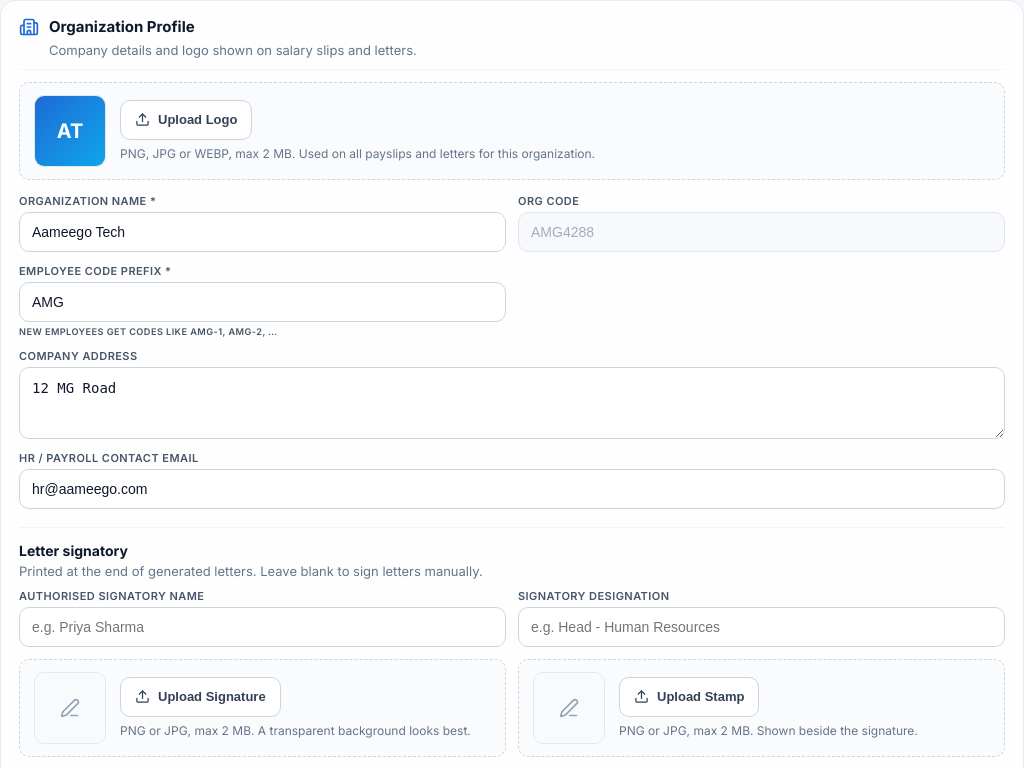
Test: fields are editable and save sends the edited signatory details
Replace the text in the field labelled "Organization Name *" with "Aameego Labs": (262, 232) [19,212,506,252]
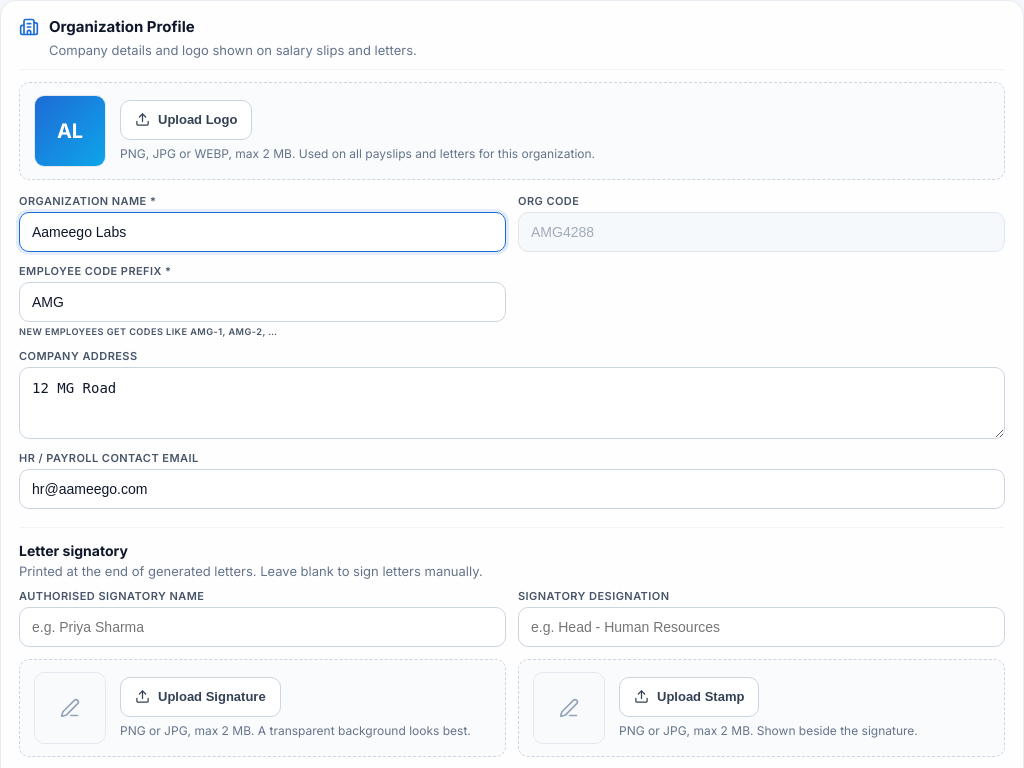
In the field labelled "Authorised Signatory Name": (262, 627) [19,607,506,647], type "Priya Sharma"
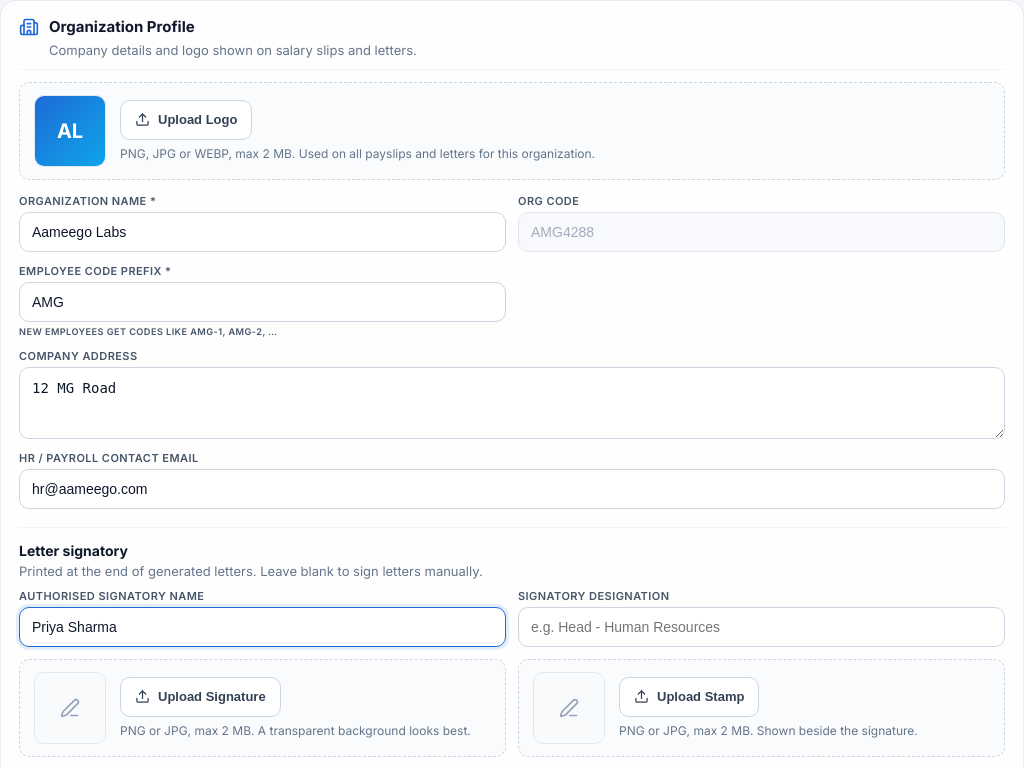
In the field labelled "Signatory Designation": (762, 627) [518,607,1005,647], type "Head HR"
(page scrolled)
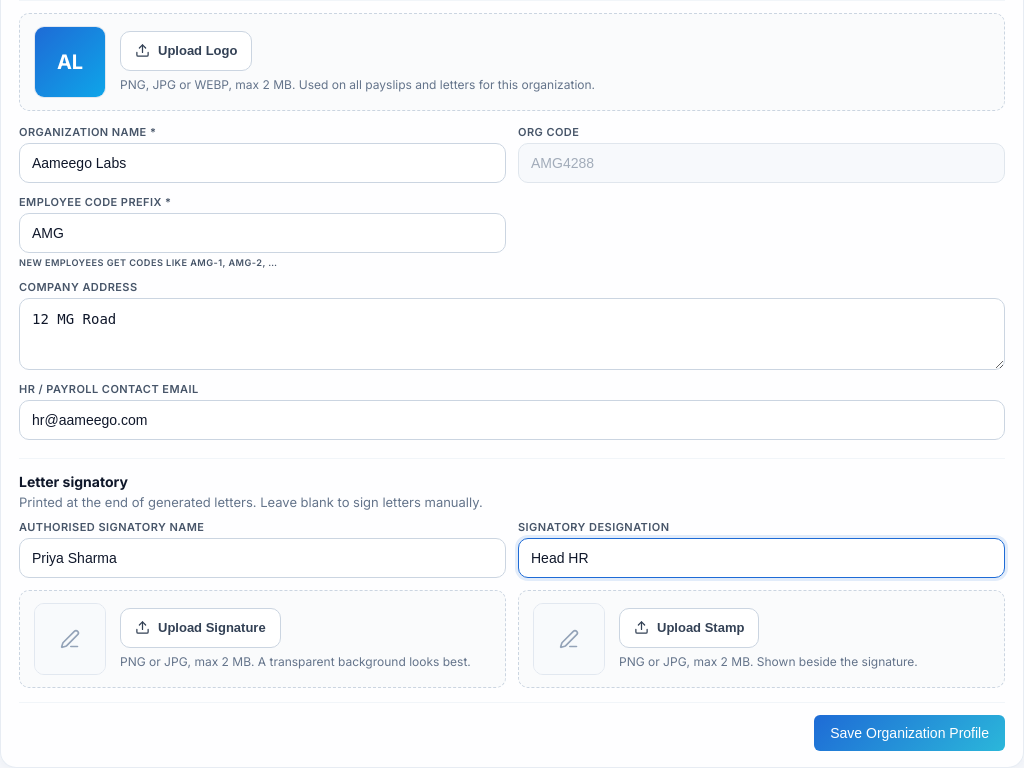
Click the button "Save Organization Profile": (910, 733) [814,715,1005,751]
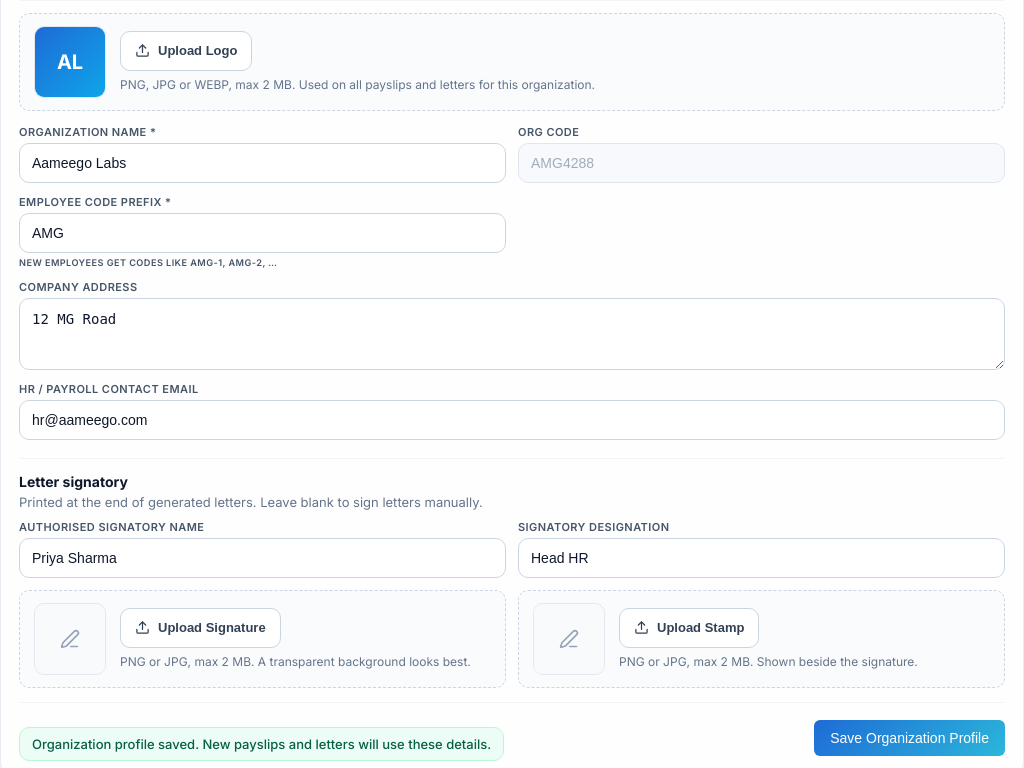
Check: the text "Organization profile saved" is shown, box [32,736,491,752]
